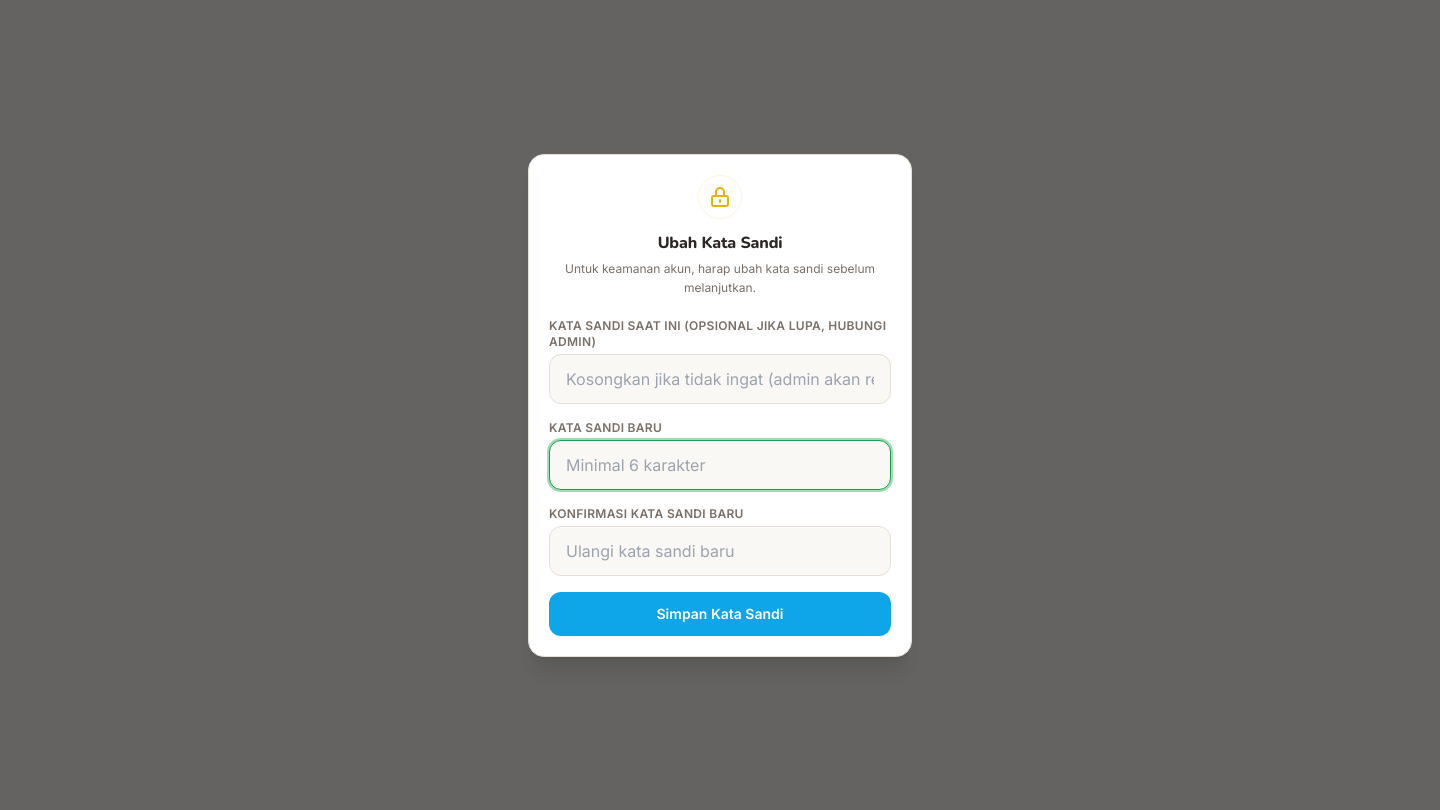
Test case: ForceChangePasswordModal › validates password length and confirmation match
The width and height of the screenshot is (1440, 810).
Type "123" into the password field with placeholder "Minimal 6 karakter".
click(720, 464); type("123")  # box 549,440 -> 891,490
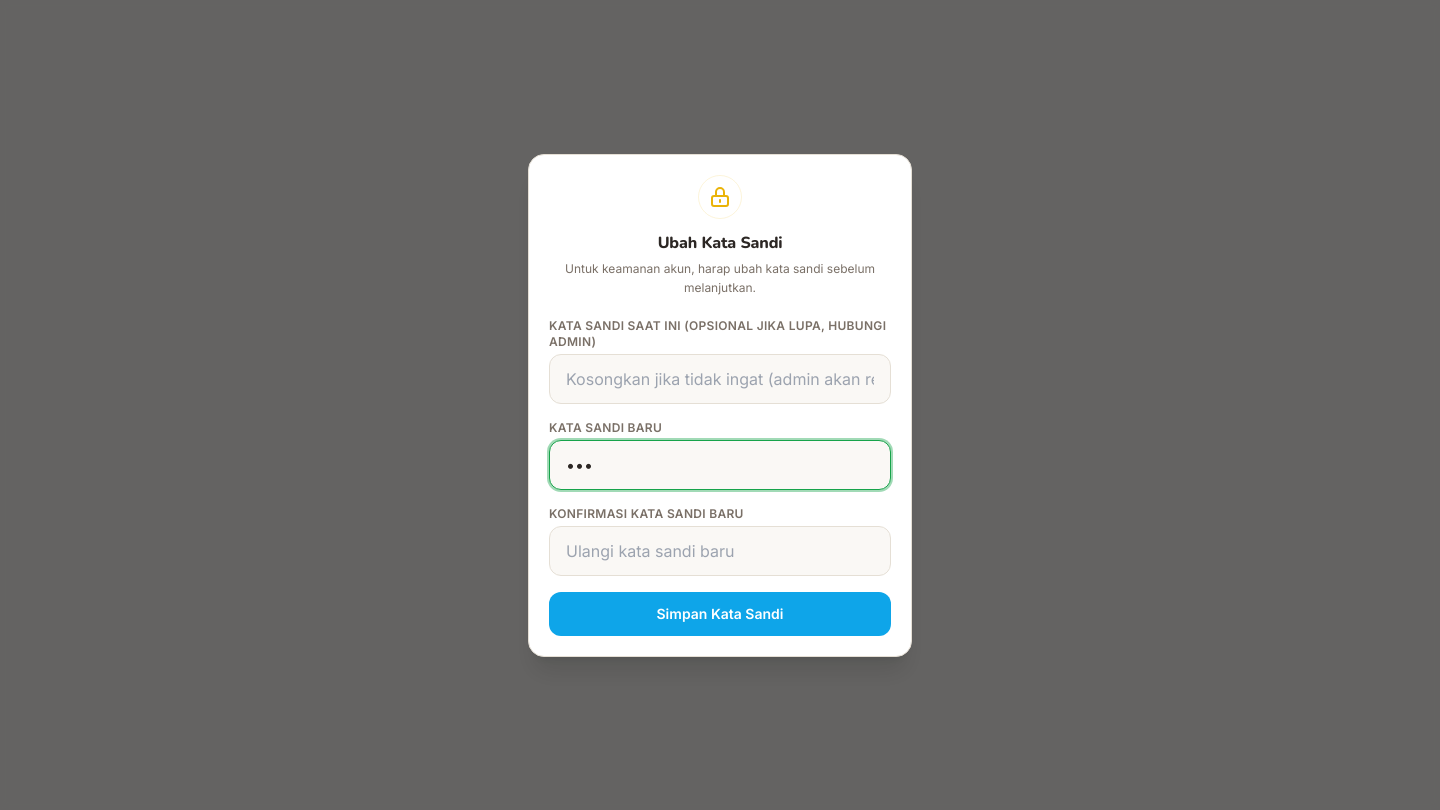
Type "123" into the password field with placeholder "Ulangi kata sandi baru".
click(720, 550); type("123")  # box 549,526 -> 891,576
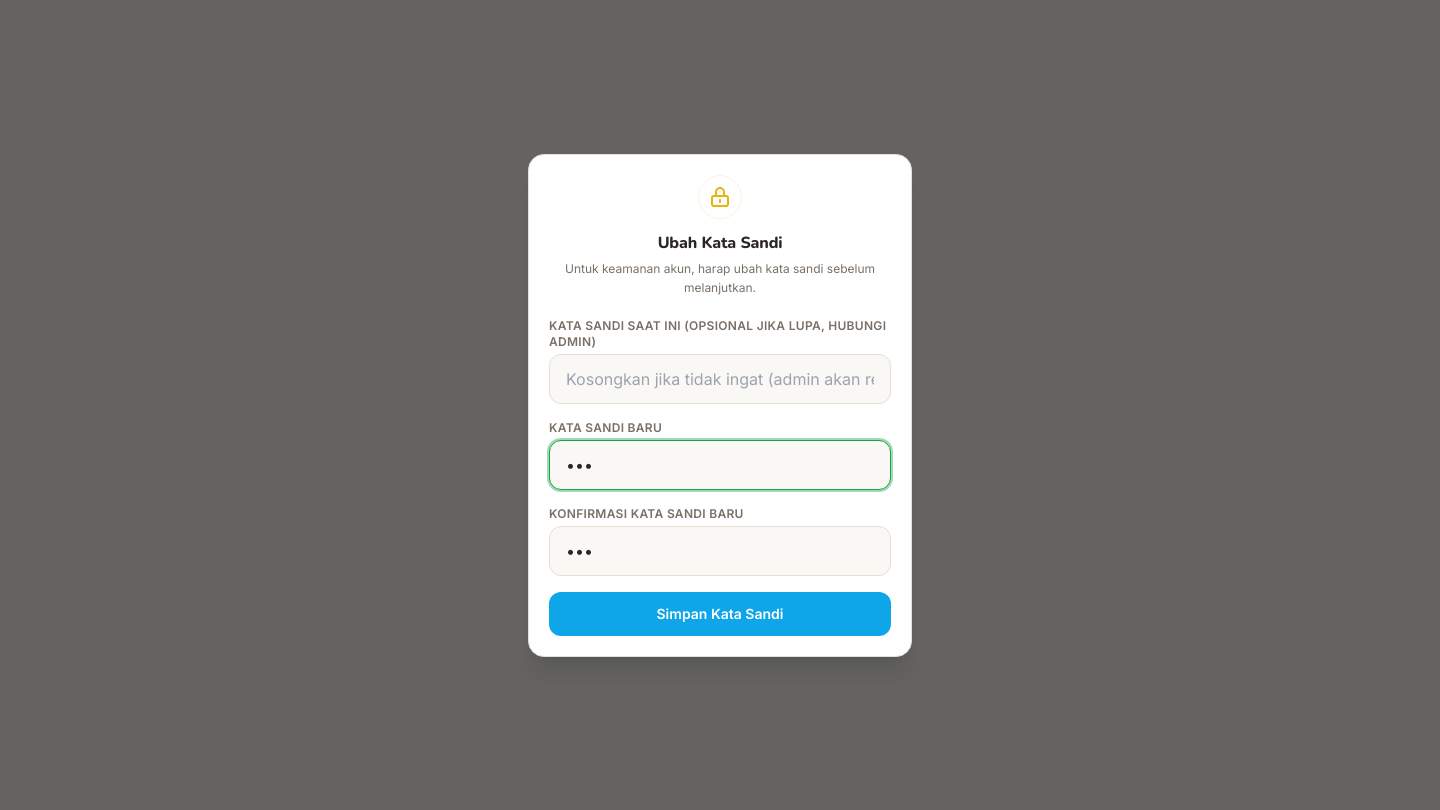
Click the button "Simpan Kata Sandi".
click(720, 614)  # box 549,592 -> 891,636
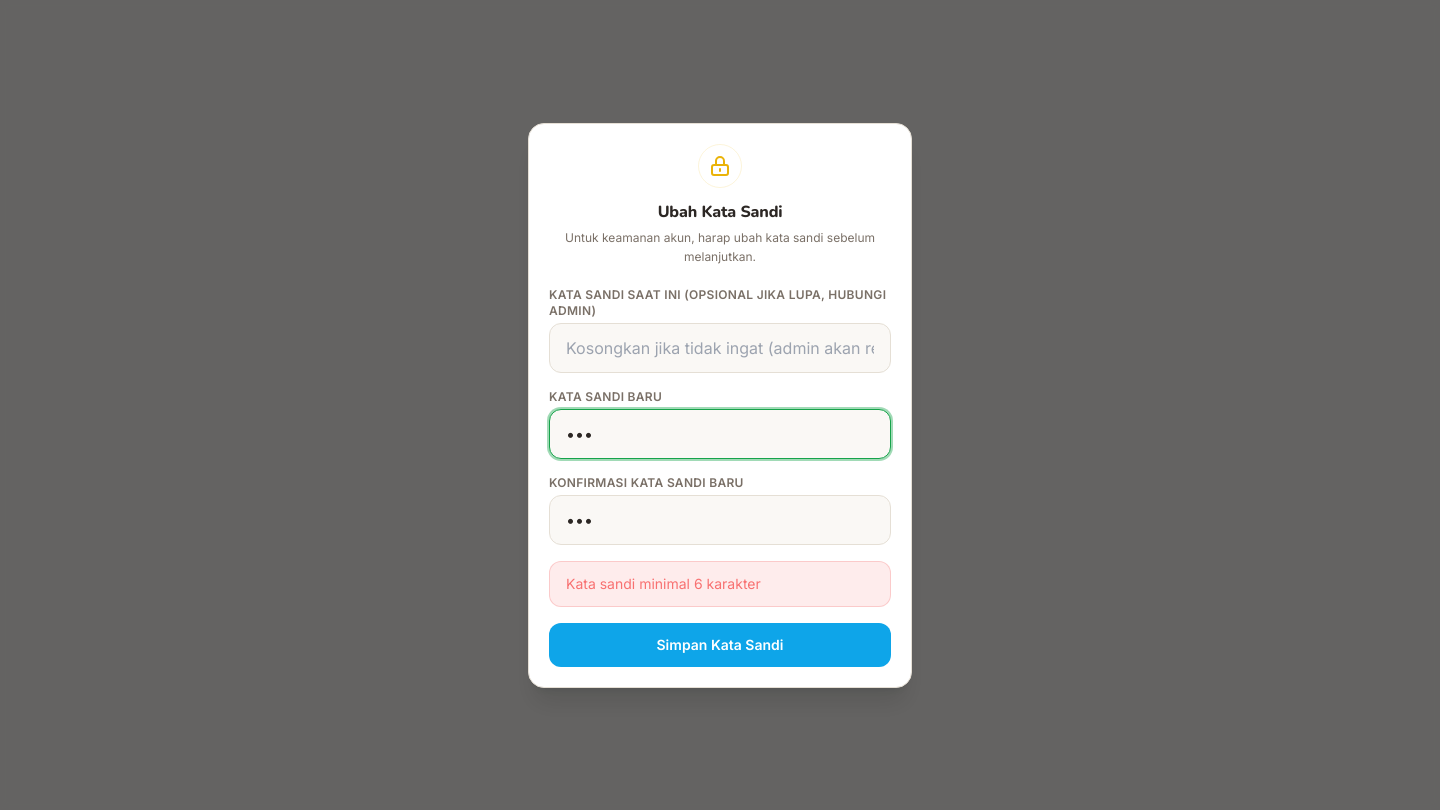
Result: the text "Kata sandi minimal 6 karakter" is shown at 549,560 -> 891,606
Note: Test mismatch
Type "newsecret123" into the 1st password field with placeholder "Minimal 6 karakter".
click(720, 434); type("newsecret123")  # box 549,408 -> 891,458
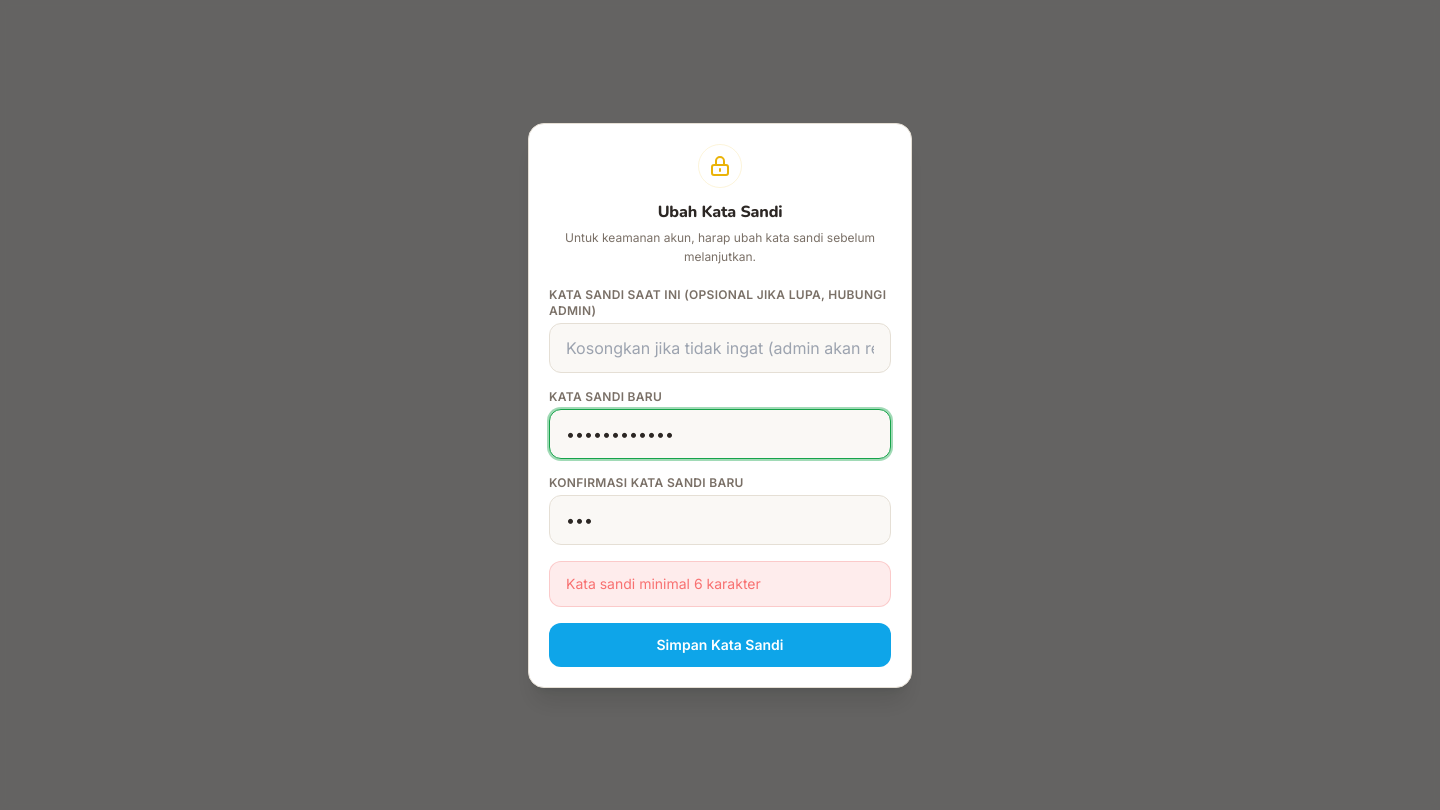
Type "different123" into the password field with placeholder "Ulangi kata sandi baru" below "Konfirmasi Kata Sandi Baru".
click(720, 520); type("different123")  # box 549,494 -> 891,544
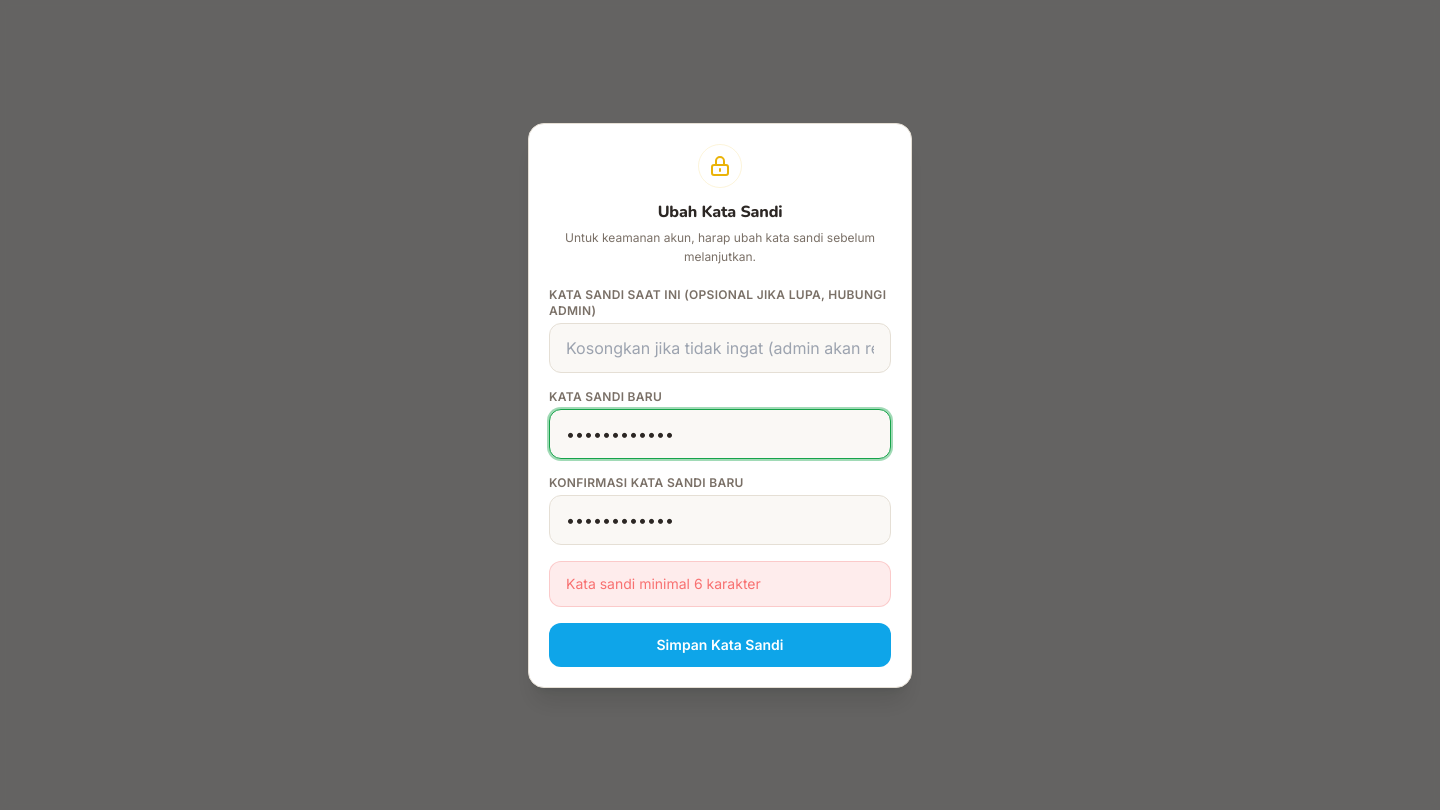
Click the button "Simpan Kata Sandi".
click(720, 644)  # box 549,622 -> 891,666
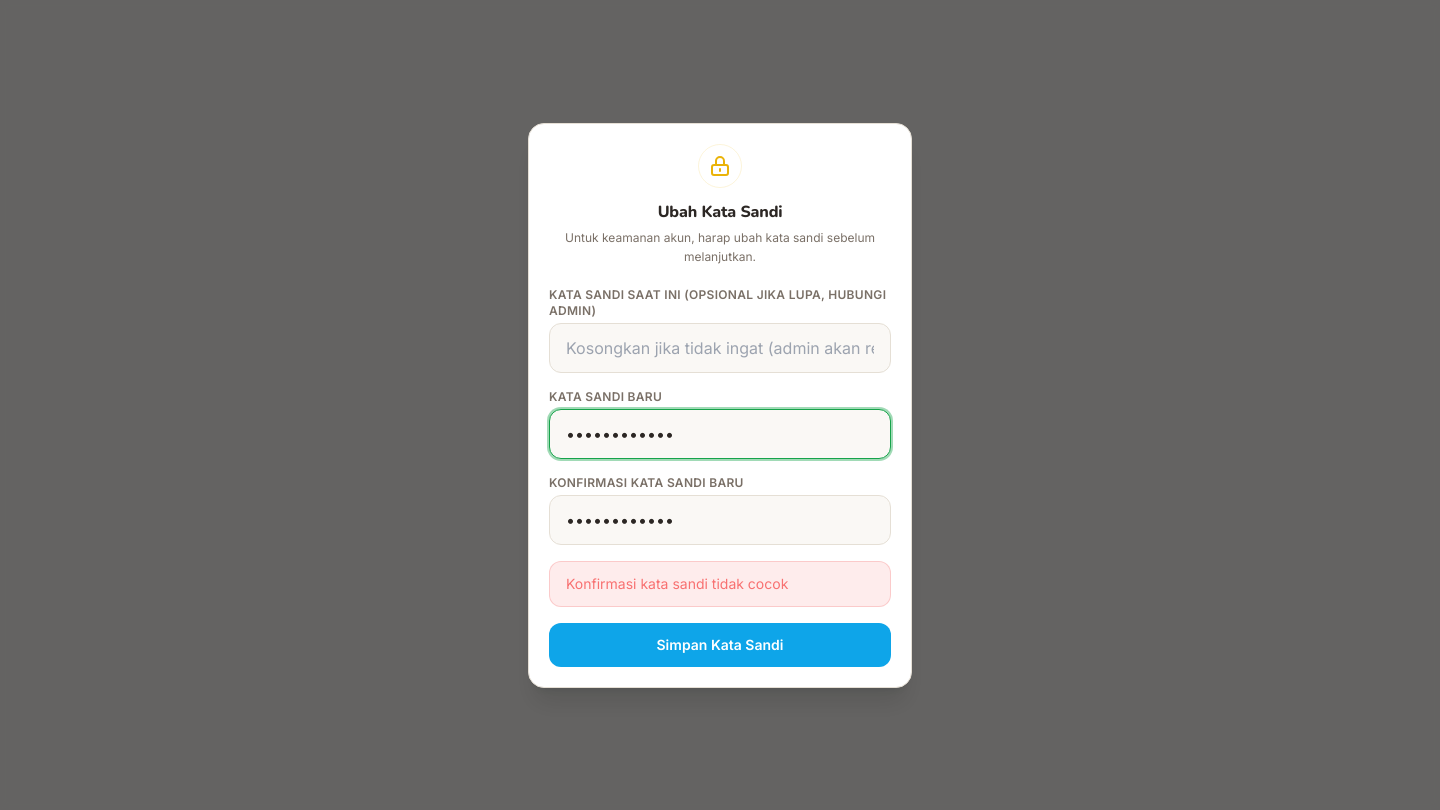
Result: the text "Konfirmasi kata sandi tidak cocok" is shown at 549,560 -> 891,606
